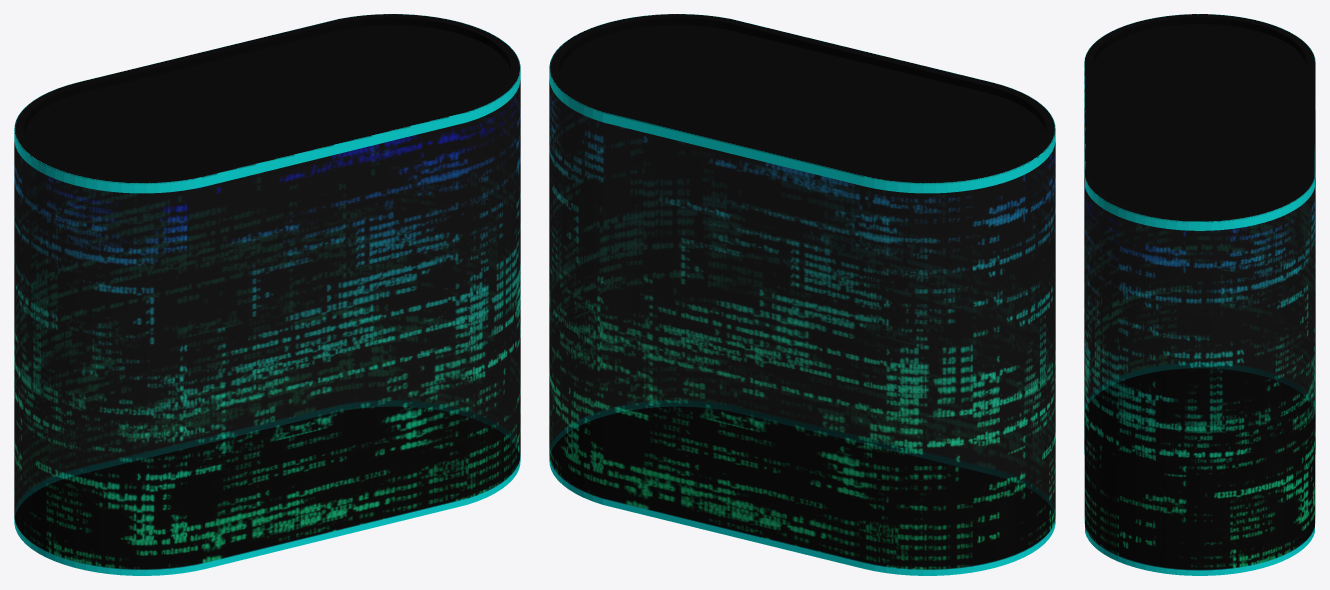
File: Round_s.obj
3 renders of one model, left to right at view 1: azimuth 30°, elevation 25°; view 2: azimuth 150°, elevation 25°; view 3: azimuth 270°, elevation 25°, orthographic. The views are drawn at different scales.
Visible parts, largest first — view 1: Cylinder.002; view 2: Cylinder.002; view 3: Cylinder.002.
Part boxes in pixels (x1,y1,x2,y2): Cylinder.002: [14, 14, 520, 575]; Cylinder.002: [549, 14, 1055, 575]; Cylinder.002: [1084, 14, 1315, 575].
Size of the model in its own units: 75.47 by 60 by 35.52.
3 materials, 3 textured.
